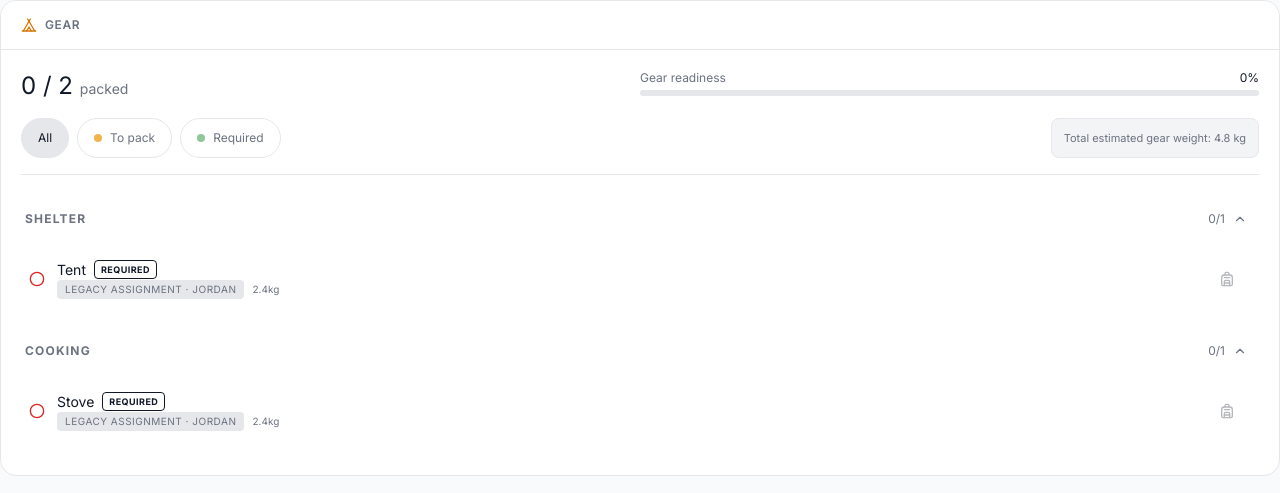
Test case: GearChecklistCard › filters to one category and restores all categories through its button
This screenshot has width=1280, height=493.
Click the button "Shelter 0/1" at (56, 218), box [21,199,1251,239]
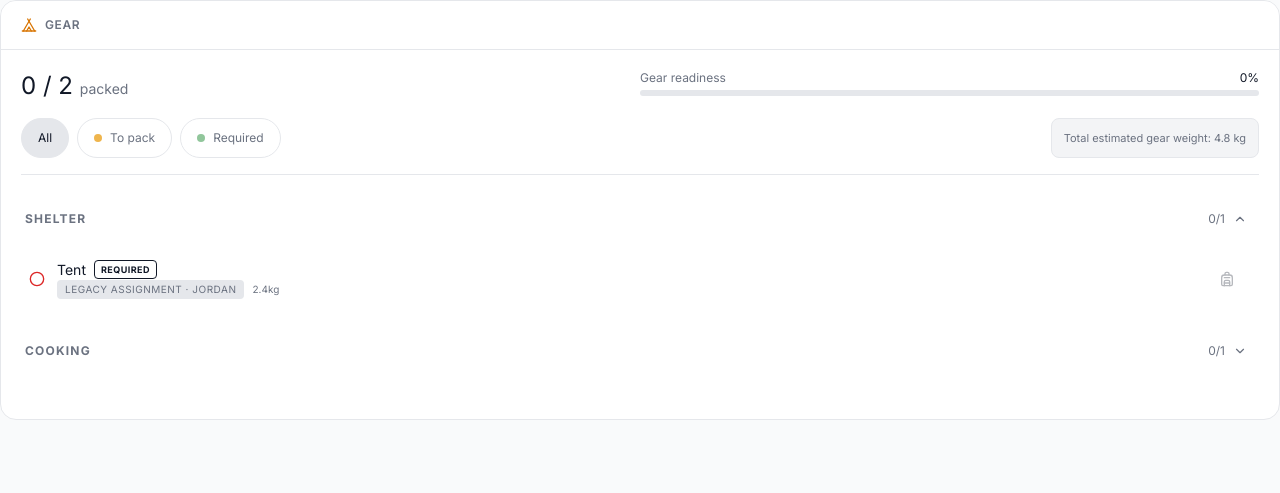
Expected: the text "Tent" is shown, [57,260,86,280]
Expected: the button "Cooking 0/1" is collapsed, [21,331,1251,371]
Expected: the button "Stove" is gone
Click the button "Shelter 0/1" at (56, 218), box [21,199,1251,239]
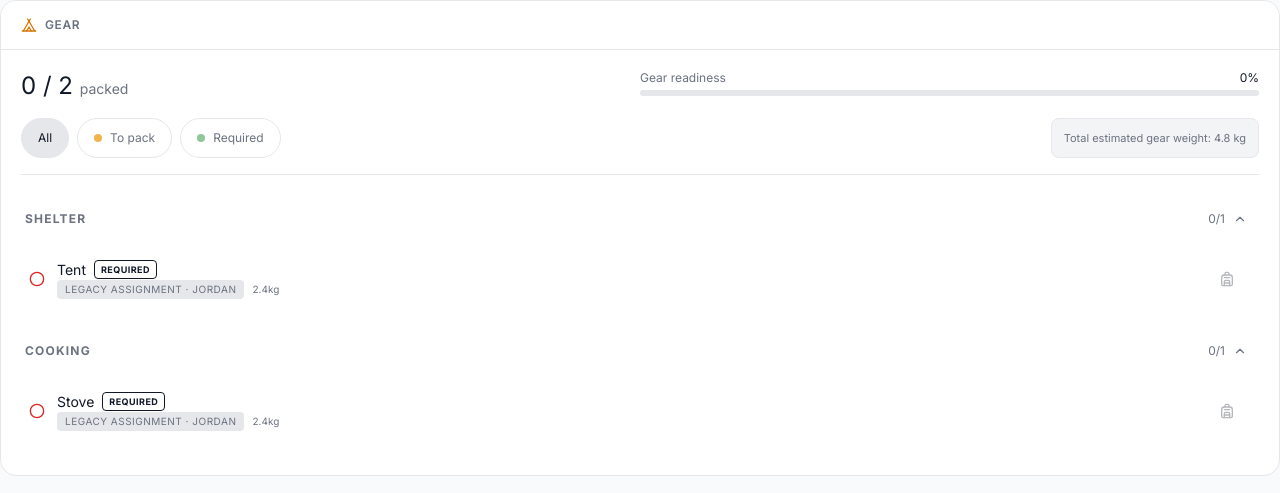
Expected: the button "Cooking 0/1" is expanded, [21,331,1251,371]
Expected: the text "Stove" is shown, [57,392,94,412]
